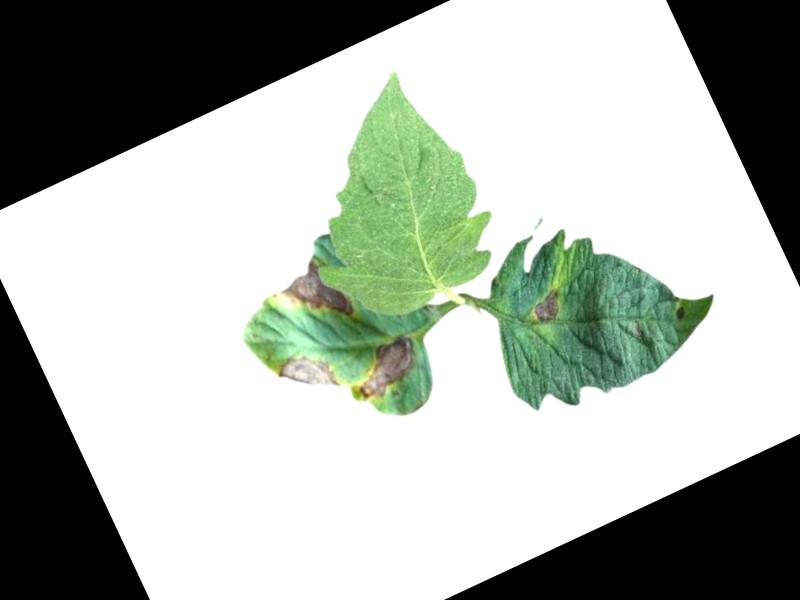Early_blight: (276, 251, 356, 336), (340, 330, 425, 404), (269, 344, 341, 412), (525, 284, 568, 328), (670, 303, 688, 322)
